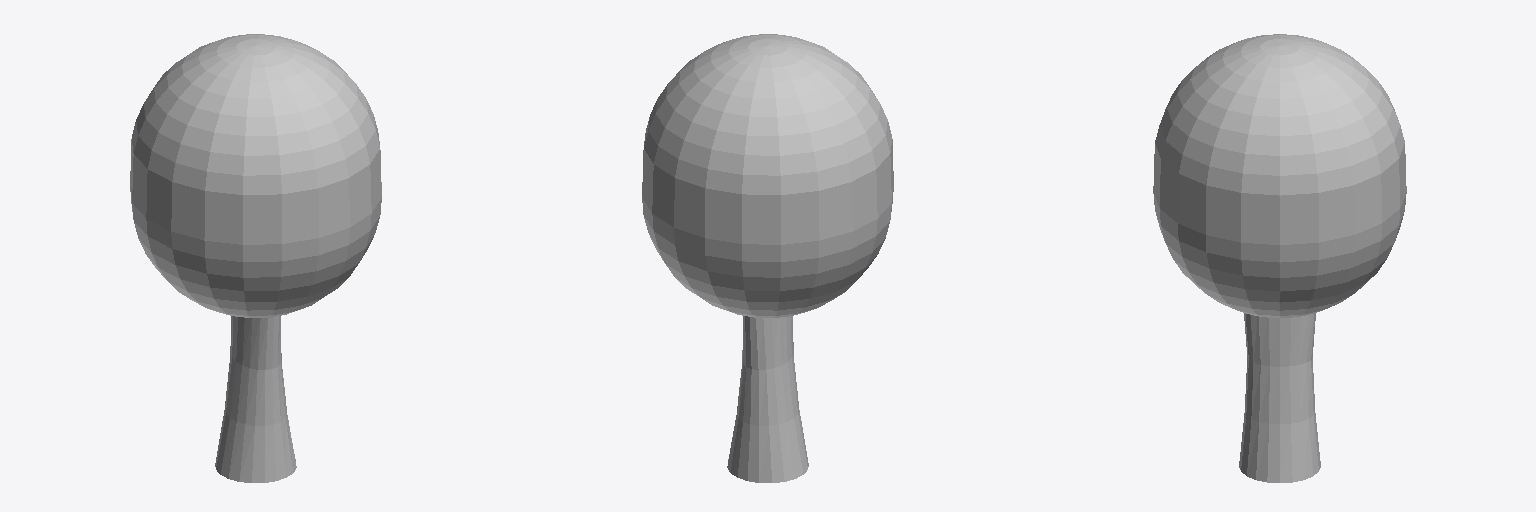
The model's file is RoundedTree.obj.
The picture shows the model from 3 angles: view 1: azimuth 30°, elevation 25°; view 2: azimuth 150°, elevation 25°; view 3: azimuth 270°, elevation 25°; orthographic projection.
Parts seen in each view (by area): view 1: pCylinder7; view 2: pCylinder7; view 3: pCylinder7.
Part boxes in pixels (x1,y1,x2,y2): pCylinder7: (130,34,381,482); pCylinder7: (642,34,893,482); pCylinder7: (1153,34,1406,482).
Bounding box in the file's own units: 5.73 × 10.49 × 5.73.